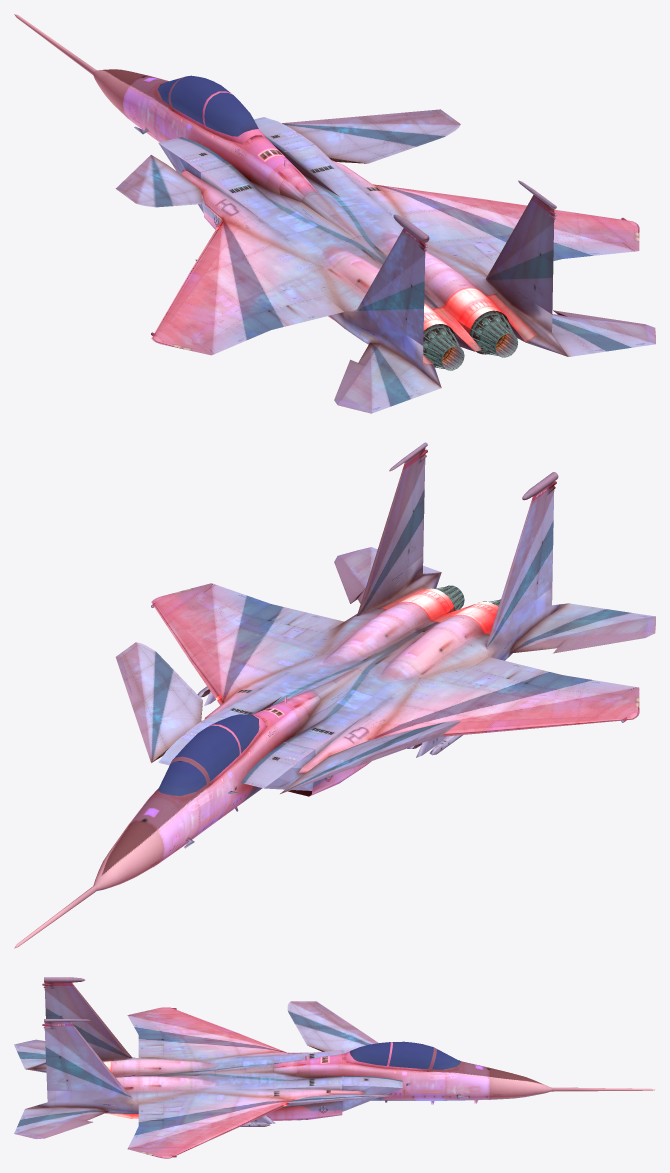
3 renders of one model, top to bottom at view 1: azimuth 30°, elevation 25°; view 2: azimuth 150°, elevation 25°; view 3: azimuth 270°, elevation 25°, orthographic. The views are drawn at different scales.
Parts seen in each view (by area): view 1: F-15 Active_LOD0, F-15 Active_CanardR01, F-15 Active_ElevatorL01, F-15 Active_Glass02, F-15 Active_ElevatorR01, F-15 Active_CanardL01, F-15 Active_BrakeL01, F-15 Active_IntakeL01, F-15 Active_EngineR01, F-15 Active_RudderR01, F-15 Active_RudderL01, F-15 Active_FlapL01 (+5 smaller); view 2: F-15 Active_LOD0, F-15 Active_CanardR01, F-15 Active_ElevatorL01, F-15 Active_Glass02, F-15 Active_CanardL01, F-15 Active_IntakeL01, F-15 Active_BrakeL01, F-15 Active_ElevatorR01, F-15 Active_RudderL01, F-15 Active_RudderR01, F-15 Active_FlapL01, F-15 Active_FlapR01 (+2 smaller); view 3: F-15 Active_LOD0, F-15 Active_CanardL01, F-15 Active_Glass02, F-15 Active_ElevatorR01, F-15 Active_IntakeR01, F-15 Active_RudderR01, F-15 Active_BrakeL01, F-15 Active_ElevatorL01, F-15 Active_CanardR01, F-15 Active_FlapR01, F-15 Active_FlapL01, F-15 Active_RudderL01 (+3 smaller).
Boxes of the visible parts, box(x1,y1,x2,y2) form: F-15 Active_LOD0: box(14, 14, 639, 387); F-15 Active_CanardR01: box(282, 109, 460, 163); F-15 Active_ElevatorL01: box(334, 342, 441, 413); F-15 Active_Glass02: box(157, 75, 258, 136); F-15 Active_ElevatorR01: box(552, 310, 655, 356); F-15 Active_CanardL01: box(115, 155, 202, 207); F-15 Active_BrakeL01: box(277, 168, 368, 242); F-15 Active_IntakeL01: box(158, 137, 231, 213); F-15 Active_EngineR01: box(469, 310, 517, 357); F-15 Active_RudderR01: box(531, 214, 554, 313); F-15 Active_RudderL01: box(403, 246, 425, 345); F-15 Active_FlapL01: box(253, 296, 343, 329); F-15 Active_LOD0: box(14, 442, 639, 948); F-15 Active_CanardR01: box(115, 642, 202, 762); F-15 Active_ElevatorL01: box(510, 603, 655, 653); F-15 Active_Glass02: box(157, 714, 259, 795); F-15 Active_CanardL01: box(280, 721, 460, 793); F-15 Active_IntakeL01: box(240, 742, 315, 790); F-15 Active_BrakeL01: box(279, 668, 368, 717); F-15 Active_ElevatorR01: box(334, 547, 440, 603); F-15 Active_RudderL01: box(534, 490, 554, 600); F-15 Active_RudderR01: box(406, 459, 425, 568); F-15 Active_FlapL01: box(471, 657, 561, 687); F-15 Active_FlapR01: box(253, 604, 343, 632); F-15 Active_LOD0: box(25, 977, 654, 1158); F-15 Active_CanardL01: box(287, 1001, 378, 1051); F-15 Active_Glass02: box(349, 1041, 460, 1069); F-15 Active_ElevatorR01: box(14, 1107, 108, 1139); F-15 Active_IntakeR01: box(342, 1076, 402, 1111); F-15 Active_RudderR01: box(44, 1029, 71, 1090); F-15 Active_BrakeL01: box(215, 1060, 305, 1077); F-15 Active_ElevatorL01: box(14, 1039, 45, 1068); F-15 Active_CanardR01: box(287, 1094, 395, 1103); F-15 Active_FlapR01: box(138, 1101, 161, 1126); F-15 Active_FlapL01: box(138, 1034, 161, 1057); F-15 Active_RudderL01: box(44, 989, 63, 1018).
Bounding box in the file's own units: 12.93 × 4.35 × 23.17.
4 materials, 4 textured.
